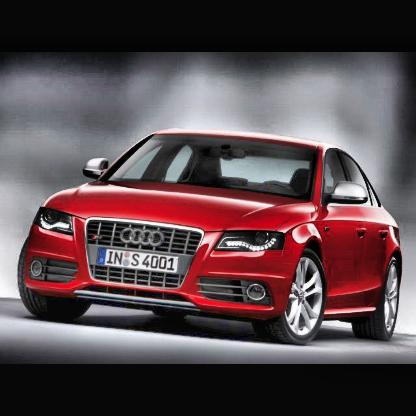Audi S4 Sedan 2012: (18, 130, 406, 352)
